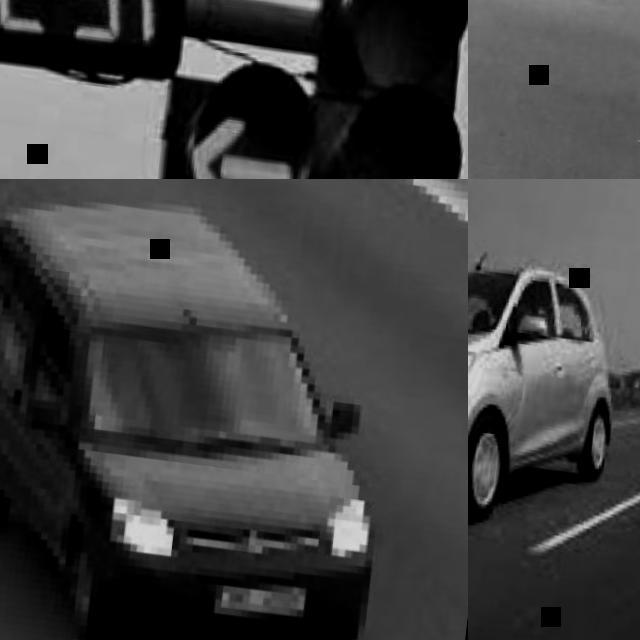car: (49, 228, 377, 638), (185, 0, 473, 181), (463, 260, 617, 517)
